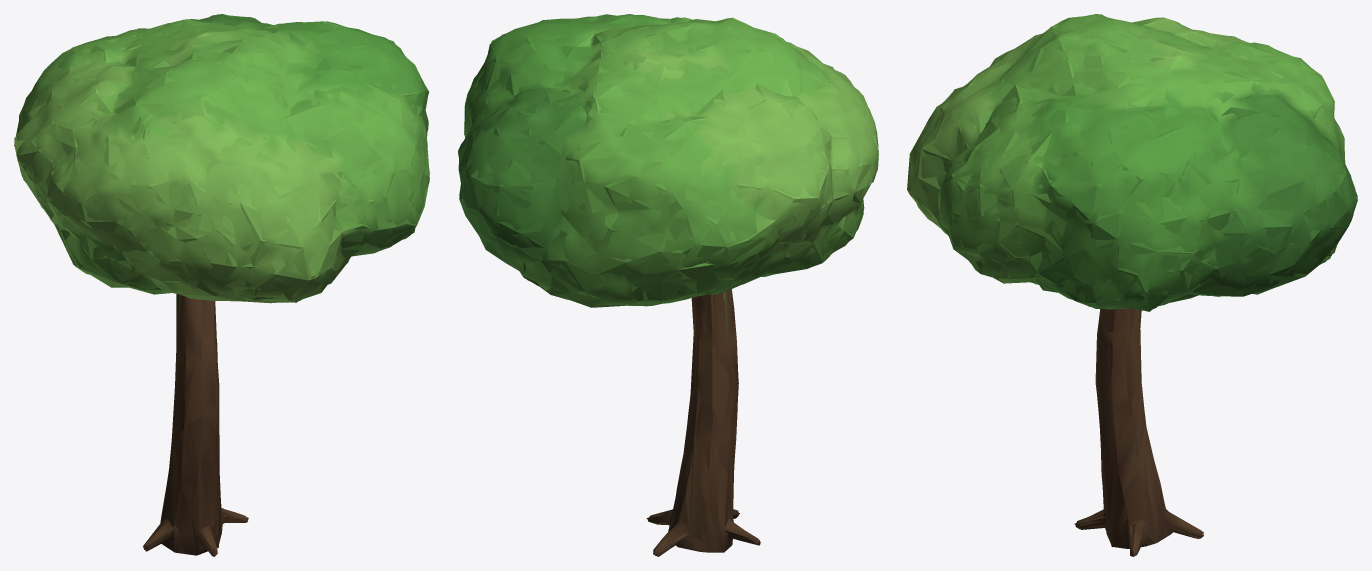
File: broadleaf_mature_irregular.glb
3 views of the same model, side by side, from view 1: azimuth 30°, elevation 25°; view 2: azimuth 150°, elevation 25°; view 3: azimuth 270°, elevation 25° (orthographic). The views are drawn at different scales.
Visible parts, largest first — view 1: broadleaf_mature_irregular_LOD1, broadleaf_mature_irregular_LOD2; view 2: broadleaf_mature_irregular_LOD1, broadleaf_mature_irregular_LOD2; view 3: broadleaf_mature_irregular_LOD1, broadleaf_mature_irregular_LOD2.
Boxes of the visible parts, <box> form: broadleaf_mature_irregular_LOD1: <box>14,14,429,556</box>; broadleaf_mature_irregular_LOD2: <box>14,14,429,555</box>; broadleaf_mature_irregular_LOD1: <box>458,14,878,556</box>; broadleaf_mature_irregular_LOD2: <box>458,15,878,556</box>; broadleaf_mature_irregular_LOD1: <box>907,14,1357,556</box>; broadleaf_mature_irregular_LOD2: <box>907,17,1357,555</box>.
Size of the model in its own units: 3.88 by 4.93 by 3.93.
